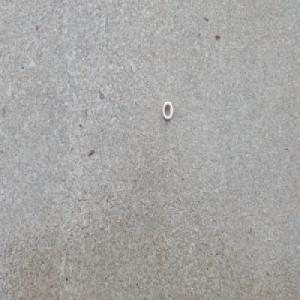Nut: (161, 100, 173, 120)
